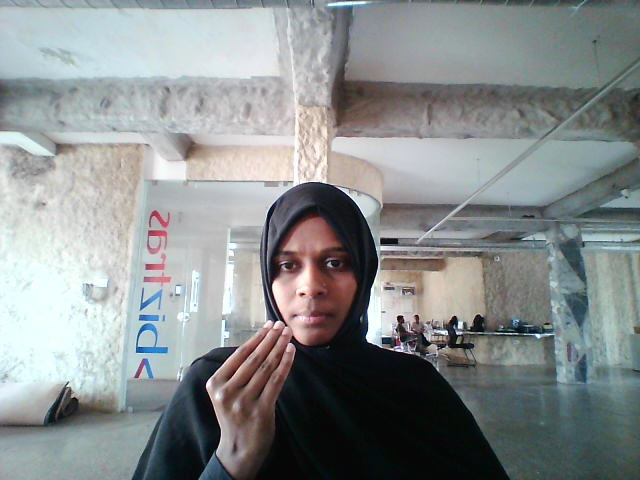THANKS: (178, 313, 317, 467)
